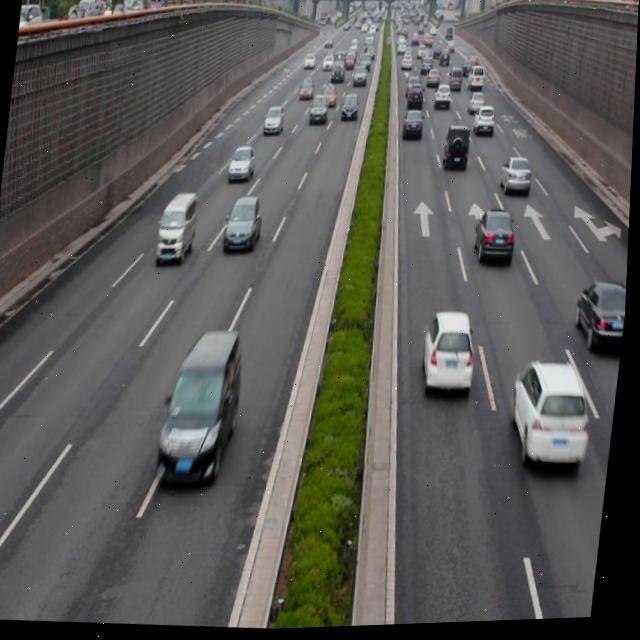car: (509, 359, 598, 470), (420, 310, 481, 395), (573, 281, 630, 356), (473, 209, 518, 269), (224, 195, 265, 255), (442, 124, 472, 175), (499, 157, 533, 201), (227, 144, 259, 185), (472, 105, 497, 140), (403, 109, 426, 145), (262, 105, 287, 137), (309, 95, 331, 127), (339, 93, 360, 124), (467, 94, 487, 117)
truck: (156, 325, 250, 491), (156, 190, 201, 268)
